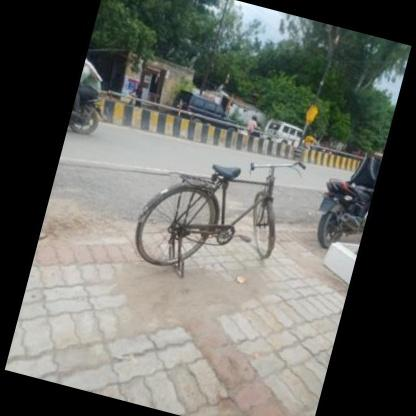Bicycle: (122, 140, 296, 287)
